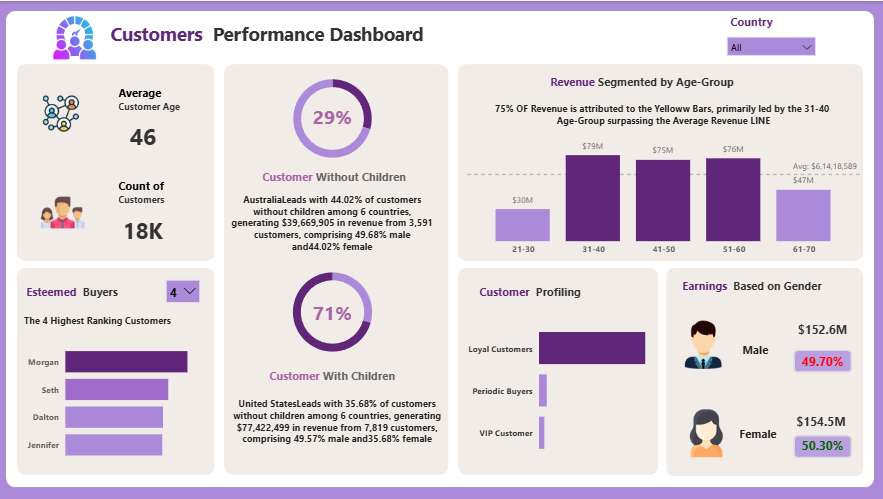

This screenshot's page, from the dashboard's own definition file:
{"tool":"powerbi","page":{"name":"Page 1","canvas":[1280,720],"ordinal":0},"visuals":[{"type":"clusteredColumnChart","fields":{"Category":["DimCustomer.Age Category"],"Y":["All Measures.Total Revenue"]},"box":[673.9,187.2,576,188.6],"z":0},{"type":"card","fields":{"Values":["Customer Measures.Avg Caption"]},"box":[707,129.6,508.3,67.7],"z":1000},{"type":"textbox","box":[793.4,100.8,322.6,40.3],"z":2000},{"type":"donutChart","fields":{"Y":["Customer Measures.% Customer without Child","Customer Measures.% Customer with Child"]},"box":[388.8,93.6,191.5,151.2],"z":3000},{"type":"donutChart","fields":{"Y":["Customer Measures.% Customer without Child","Customer Measures.% Customer with Child"]},"box":[388.8,371.5,191.5,152.6],"z":4000},{"type":"card","fields":{"Values":["Customer Measures.% Customer without Child"]},"box":[437.8,148.3,93.6,38.9],"z":5000},{"type":"card","fields":{"Values":["Customer Measures.% Customer with Child"]},"box":[445,421.9,79.2,54.7],"z":6000},{"type":"textbox","box":[378.7,237.6,247.7,37.4],"z":7000},{"type":"textbox","box":[388.8,524.2,207.4,34.6],"z":8000},{"type":"card","fields":{"Values":["Customer Measures.Captionn Customers Without Children"]},"box":[332.6,542.9,321.1,118.1],"z":9000},{"type":"card","fields":{"Values":["Customer Measures.Captionn Customers With Children"]},"box":[332.6,256.3,306.7,116.6],"z":10000},{"type":"clusteredBarChart","fields":{"Category":["DimCustomer.Customer Type"],"Y":["All Measures.Total Revenue"]},"box":[673.9,439.2,280.8,237.6],"z":11000},{"type":"clusteredBarChart","fields":{"Category":["DimCustomer.FirstName"],"Y":["Customer Measures.Dynamic customers"]},"box":[38.9,475.2,266.4,201.6],"z":12000},{"type":"slicer","fields":{"Values":["Dynamic Customers.Dynamic Customers"]},"box":[234.7,391.7,69.1,41.8],"z":13000},{"type":"card","fields":{"Values":["Customer Measures.% Female"]},"box":[1147.7,625,85,34.6],"z":14000},{"type":"card","fields":{"Values":["Customer Measures.% Male"]},"box":[1153.4,505.4,73.4,30.2],"z":15000},{"type":"card","fields":{"Values":["Customer Measures.Average Customer Age"]},"box":[154.1,167,115.2,54.7],"z":16000},{"type":"card","fields":{"Values":["Customer Measures.#Customers"]},"box":[146.9,308.2,129.6,46.1],"z":17000},{"type":"textbox","box":[171.4,116.6,133.9,47.5],"z":18000},{"type":"textbox","box":[171.4,250.6,108,47.5],"z":19000},{"type":"textbox","box":[1065.6,607.7,73.4,34.6],"z":20000},{"type":"textbox","box":[1069.9,486.7,69.1,31.7],"z":21000},{"type":"card","fields":{"Values":["Customer Measures.Title Top Customers"]},"box":[2.9,439.2,286.6,46.1],"z":22000},{"type":"card","fields":{"Values":["Customer Measures.Female Revenue"]},"box":[1130.4,589,115.2,36],"z":23000},{"type":"card","fields":{"Values":["Customer Measures.Male Revenue"]},"box":[1139,456.5,102.2,37.4],"z":24000},{"type":"slicer","fields":{"Values":["DimGeography.Country"]},"box":[1042.6,41.8,148.3,46.1],"z":25000},{"type":"textbox","box":[159.8,23,514.1,60.5],"z":26000},{"type":"textbox","box":[38.9,403.2,158.4,36],"z":27000},{"type":"textbox","box":[691.2,403.2,158.4,36],"z":28000},{"type":"textbox","box":[983.5,394.6,243.4,36],"z":29000},{"type":"textbox","box":[1052.6,14.4,76.3,40.3],"z":30000}]}

Visuals, with their boxes in screenshot pixels (x1, y1, x2, y2), scaled from the page's 1280x720 canvas onto the 883x499 screenshot:
clusteredColumnChart - DimCustomer.Age Category x All Measures.Total Revenue: crop(465, 130, 862, 260)
card - Customer Measures.Avg Caption: crop(488, 90, 838, 137)
textbox: crop(547, 70, 770, 98)
donutChart - Customer Measures.% Customer without Child x Customer Measures.% Customer with Child: crop(268, 65, 400, 170)
donutChart - Customer Measures.% Customer without Child x Customer Measures.% Customer with Child: crop(268, 257, 400, 363)
card - Customer Measures.% Customer without Child: crop(302, 103, 367, 130)
card - Customer Measures.% Customer with Child: crop(307, 292, 362, 330)
textbox: crop(261, 165, 432, 191)
textbox: crop(268, 363, 411, 387)
card - Customer Measures.Captionn Customers Without Children: crop(229, 376, 451, 458)
card - Customer Measures.Captionn Customers With Children: crop(229, 178, 441, 258)
clusteredBarChart - DimCustomer.Customer Type x All Measures.Total Revenue: crop(465, 304, 659, 469)
clusteredBarChart - DimCustomer.FirstName x Customer Measures.Dynamic customers: crop(27, 329, 211, 469)
slicer - Dynamic Customers.Dynamic Customers: crop(162, 271, 210, 300)
card - Customer Measures.% Female: crop(792, 433, 850, 457)
card - Customer Measures.% Male: crop(796, 350, 846, 371)
card - Customer Measures.Average Customer Age: crop(106, 116, 186, 154)
card - Customer Measures.#Customers: crop(101, 214, 191, 246)
textbox: crop(118, 81, 211, 114)
textbox: crop(118, 174, 193, 207)
textbox: crop(735, 421, 786, 445)
textbox: crop(738, 337, 786, 359)
card - Customer Measures.Title Top Customers: crop(2, 304, 200, 336)
card - Customer Measures.Female Revenue: crop(780, 408, 859, 433)
card - Customer Measures.Male Revenue: crop(786, 316, 856, 342)
slicer - DimGeography.Country: crop(719, 29, 822, 61)
textbox: crop(110, 16, 465, 58)
textbox: crop(27, 279, 136, 304)
textbox: crop(477, 279, 586, 304)
textbox: crop(678, 273, 846, 298)
textbox: crop(726, 10, 779, 38)
